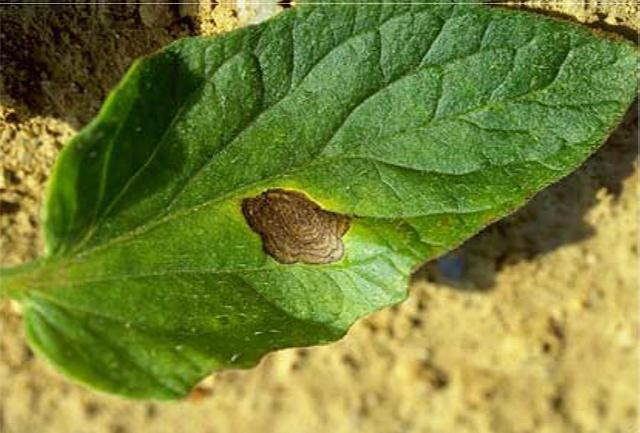Tomato Early blight leaf: (22, 8, 635, 405)
